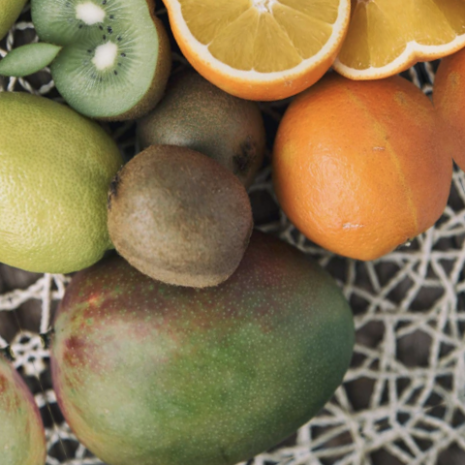kiwi: (8, 177, 420, 465), (87, 120, 274, 319)
orange: (242, 52, 465, 291)
